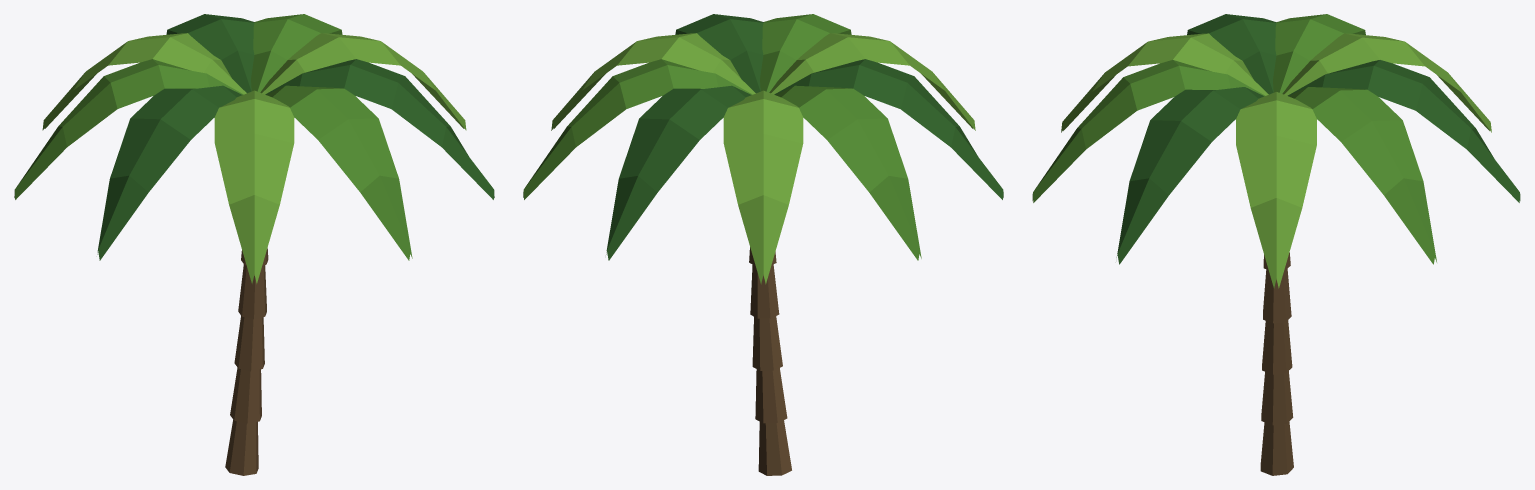
Rendered from tree-prototypes.glb.
The picture shows the model from 3 angles, left to right: view 1: azimuth 30°, elevation 25°; view 2: azimuth 150°, elevation 25°; view 3: azimuth 270°, elevation 25°; orthographic projection.
Visible parts, largest first — view 1: hm06_palm_prototype; view 2: hm06_palm_prototype; view 3: hm06_palm_prototype.
Part boxes in pixels (<box>): hm06_palm_prototype: <box>14,14,494,475</box>; hm06_palm_prototype: <box>523,14,1003,475</box>; hm06_palm_prototype: <box>1032,14,1520,475</box>.
Bounding box in the file's own units: 3.01 × 2.88 × 3.06.
